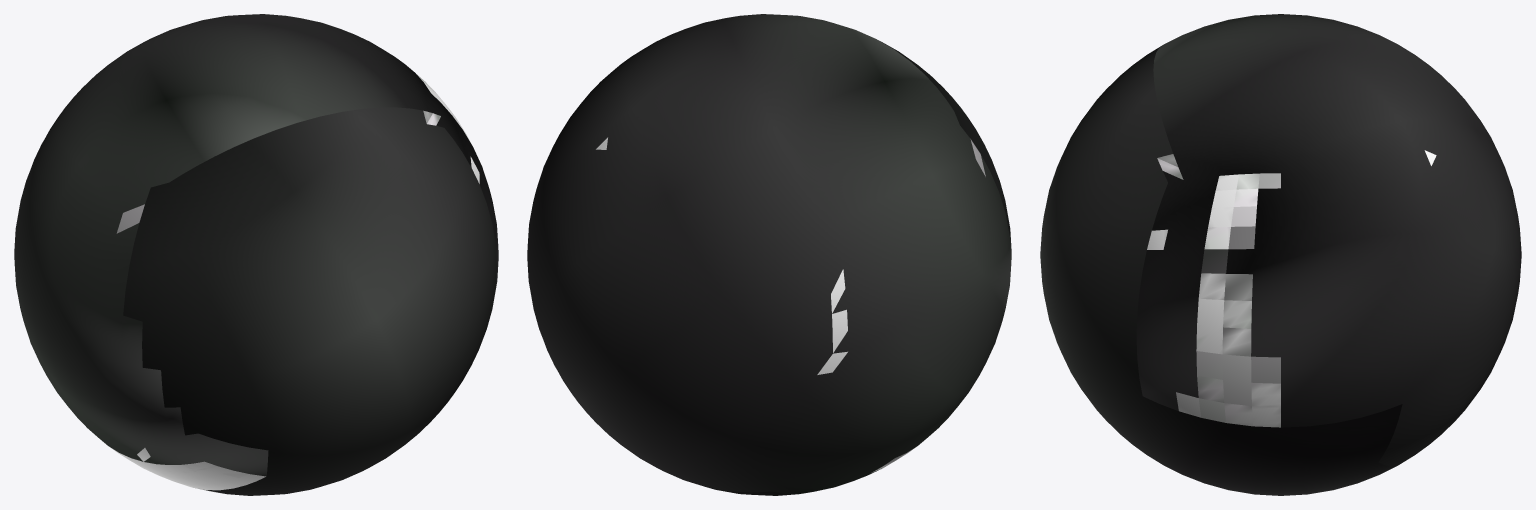
The picture shows the model from 3 angles, left to right: view 1: azimuth 30°, elevation 25°; view 2: azimuth 150°, elevation 25°; view 3: azimuth 270°, elevation 25°; orthographic projection.
Parts seen in each view (by area): view 1: node_id5; view 2: node_id5; view 3: node_id5.
Part boxes in pixels (x1,y1,x2,y2): node_id5: (14, 14, 498, 495); node_id5: (527, 14, 1011, 495); node_id5: (1040, 14, 1521, 495).
Size of the model in its own units: 0.512 by 0.5082 by 0.5082.
1 material, 1 textured.
